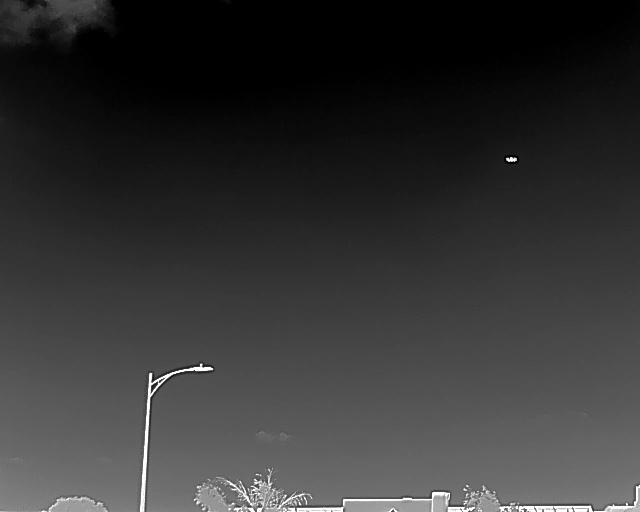fpv-drone: (504, 155, 518, 163)
